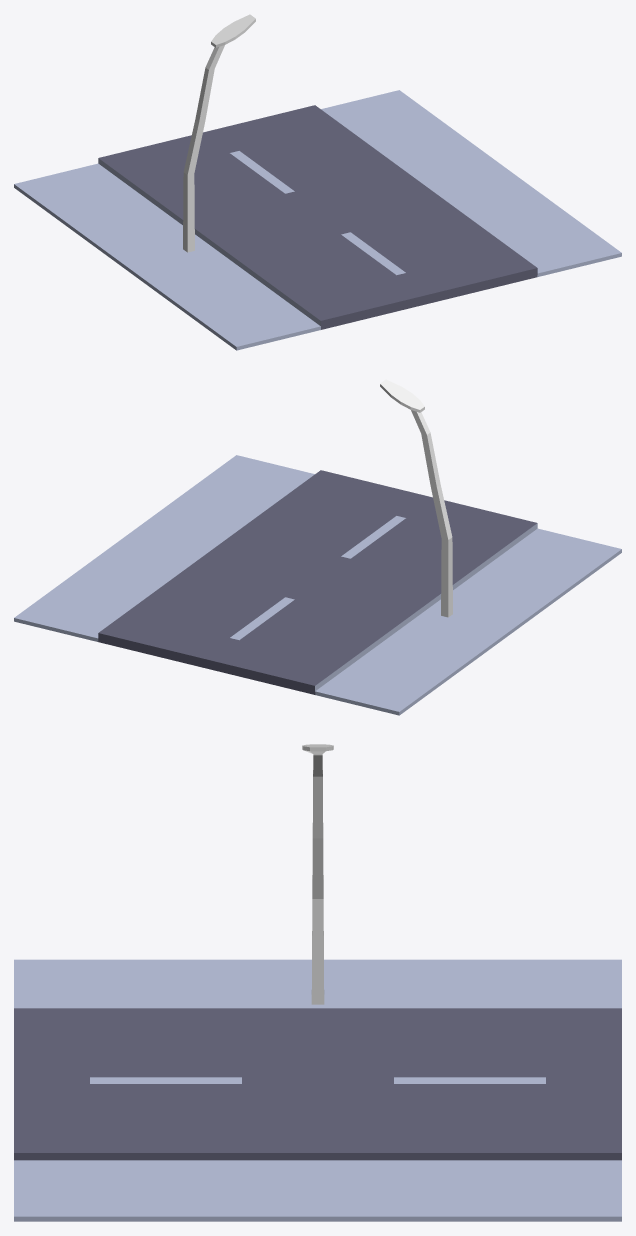
Rendered from road0.glb.
The picture shows the model from 3 angles, top to bottom: view 1: azimuth 30°, elevation 25°; view 2: azimuth 150°, elevation 25°; view 3: azimuth 270°, elevation 25°; orthographic projection. The views are drawn at different scales.
Parts seen in each view (by area): view 1: Cube, Cube.001; view 2: Cube, Cube.001; view 3: Cube, Cube.001.
Boxes of the visible parts, x1=… form: Cube: x1=14, y1=90, x2=621, y2=350; Cube.001: x1=183, y1=14, x2=255, y2=252; Cube: x1=14, y1=455, x2=621, y2=715; Cube.001: x1=380, y1=379, x2=452, y2=617; Cube: x1=14, y1=959, x2=621, y2=1221; Cube.001: x1=302, y1=744, x2=333, y2=1004.
Size of the model in its own units: 2.2 by 1.21 by 2.2.
